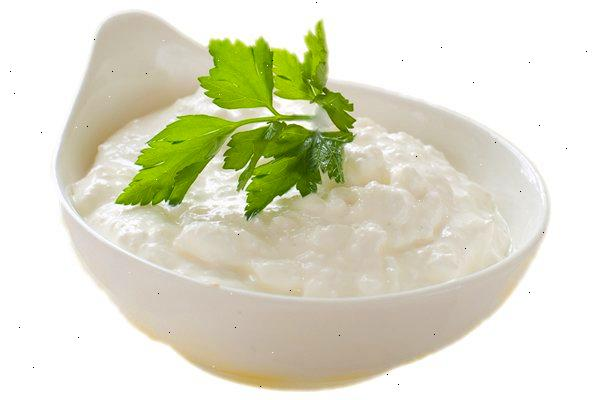yogurt: (57, 62, 539, 306)
